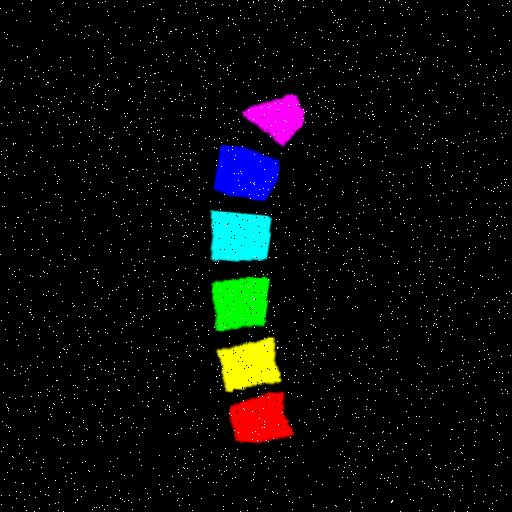L1: (232, 393, 295, 444)
L2: (220, 338, 283, 393)
L3: (213, 277, 271, 331)
L4: (212, 212, 273, 260)
L5: (215, 146, 280, 201)
S1: (243, 95, 305, 146)
